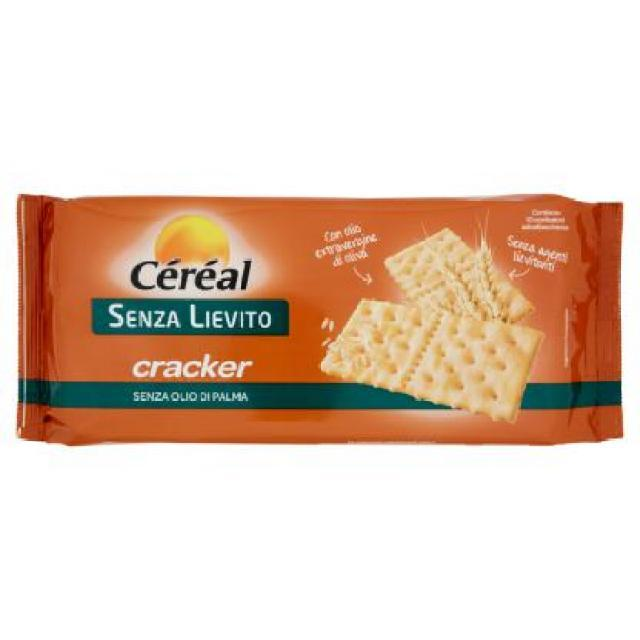Cracker: (8, 184, 630, 450)
